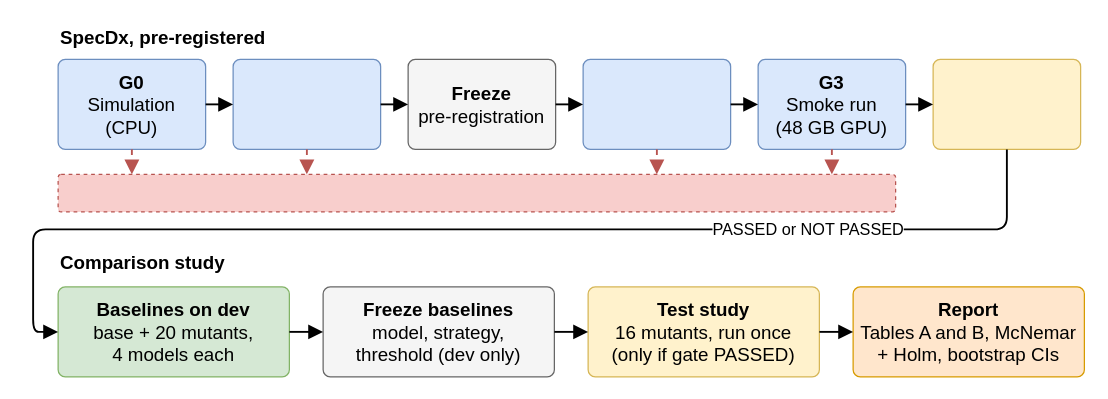
Some shapes in this 1108 by 399 pixel diagram are drawn without their labels. The shapes that lost their labels are listed below. From the top down, each one's box as (x1, y1, x2, y2) in pixels, then its label:
(232, 58, 381, 149): G1 Base replay (cached runs)
(582, 58, 731, 149): G2 Population (≥ 4 models)
(932, 58, 1081, 149): Gate 20 development mutants
(57, 173, 896, 212): fail → stop and report; parameters are never re-tuned
